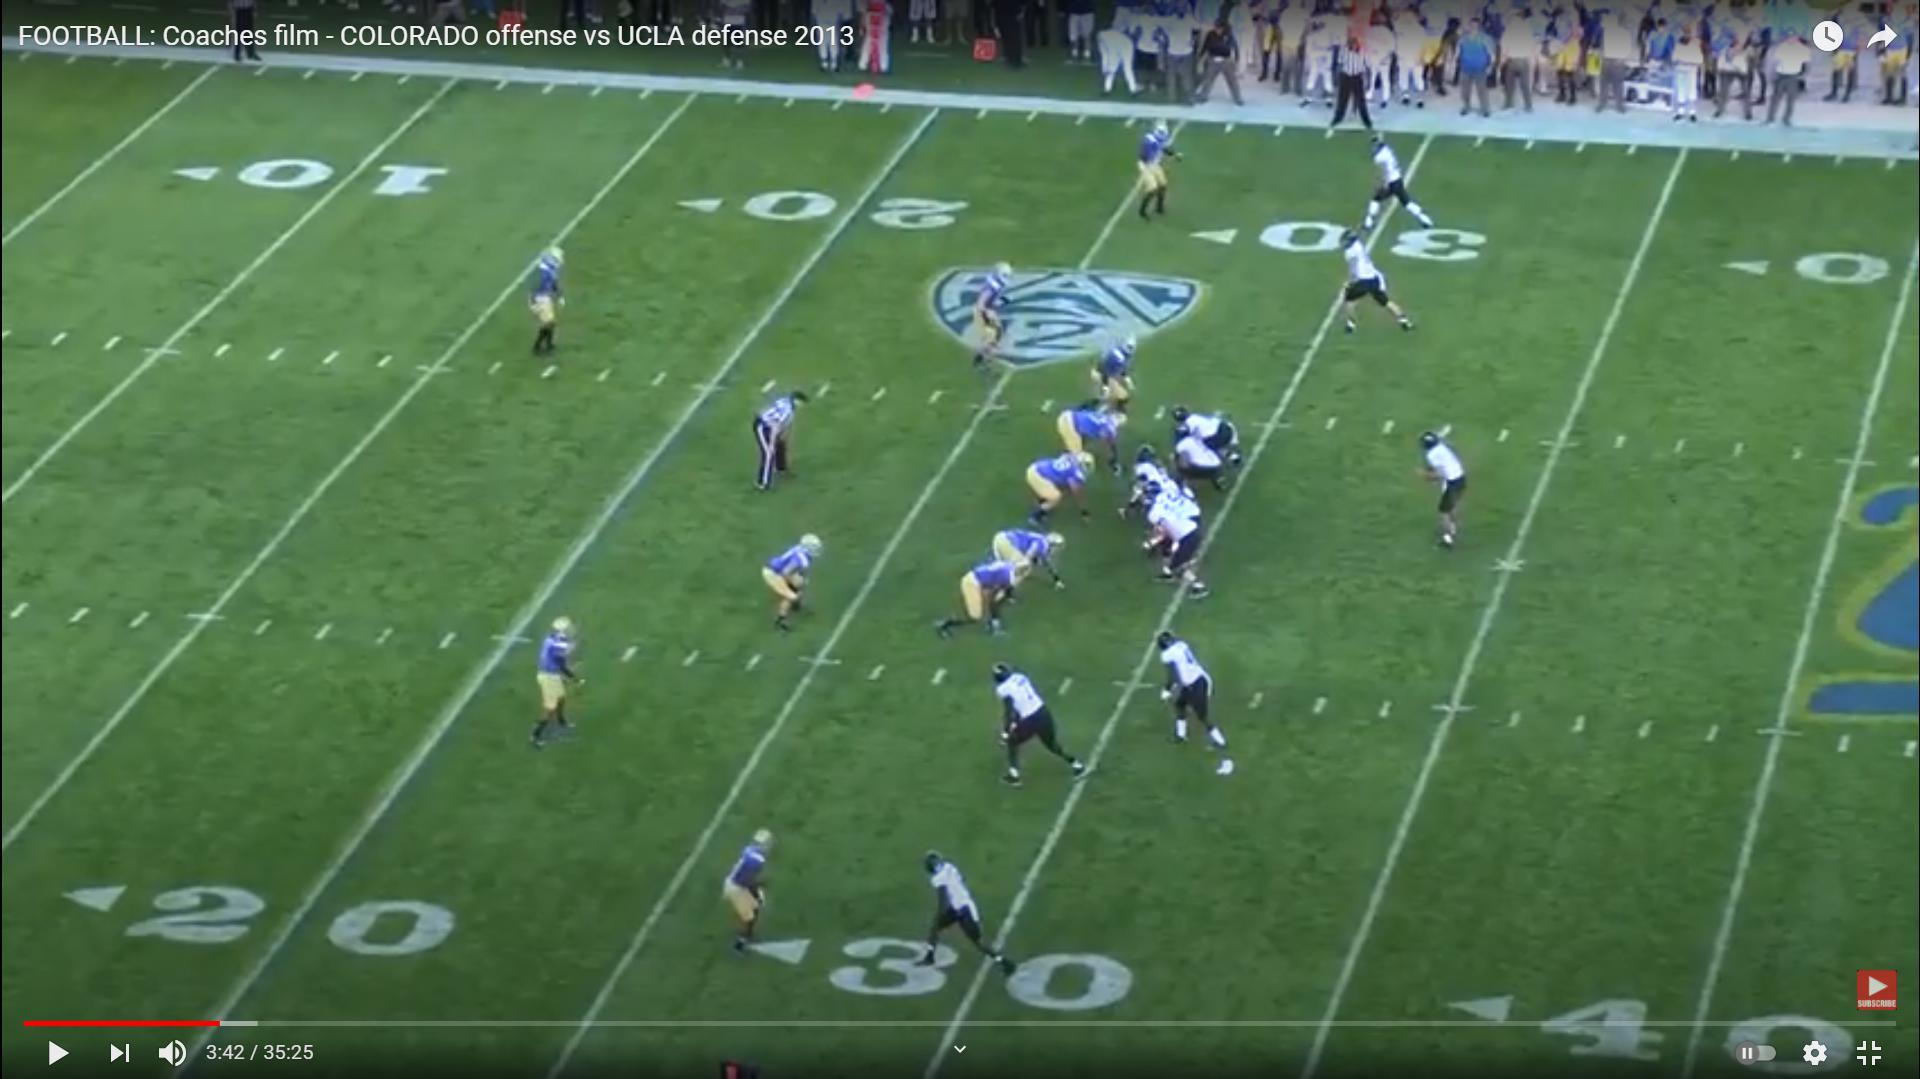player: (991, 659, 1098, 793), (1154, 632, 1244, 790), (916, 844, 1018, 972), (1333, 231, 1418, 340), (930, 554, 1032, 644), (713, 825, 776, 957), (529, 614, 587, 757), (1144, 497, 1217, 606), (1360, 136, 1439, 235), (1421, 422, 1478, 556), (758, 534, 825, 641), (1021, 451, 1101, 533), (1043, 403, 1130, 474), (985, 527, 1071, 595), (526, 243, 571, 368), (1134, 120, 1184, 230), (1172, 406, 1249, 474), (968, 263, 1012, 375), (1082, 334, 1137, 420), (1116, 450, 1183, 518), (1170, 424, 1226, 495), (1132, 467, 1198, 512)
ref: (749, 389, 804, 500), (1328, 38, 1382, 134)
